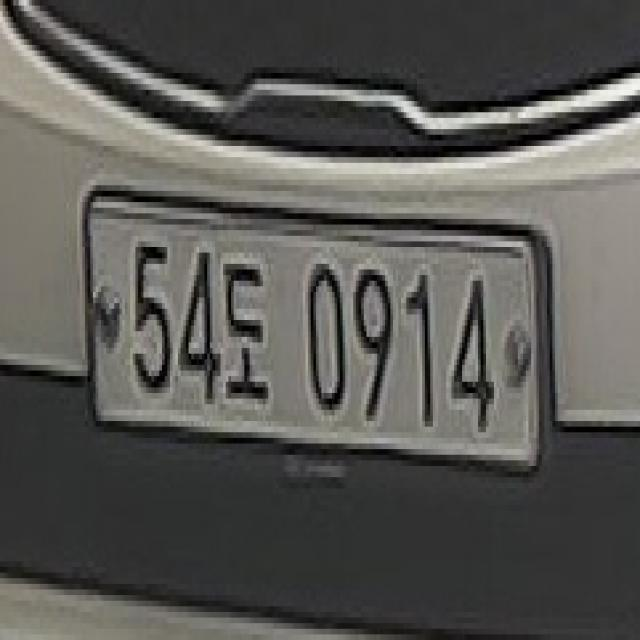0: (297, 258, 358, 427)
1: (401, 258, 446, 427)
4: (433, 258, 515, 438), (175, 219, 223, 415)
5: (130, 208, 175, 398)
9: (353, 208, 396, 438)
do: (220, 247, 276, 410)
license_plate: (77, 174, 558, 488)
